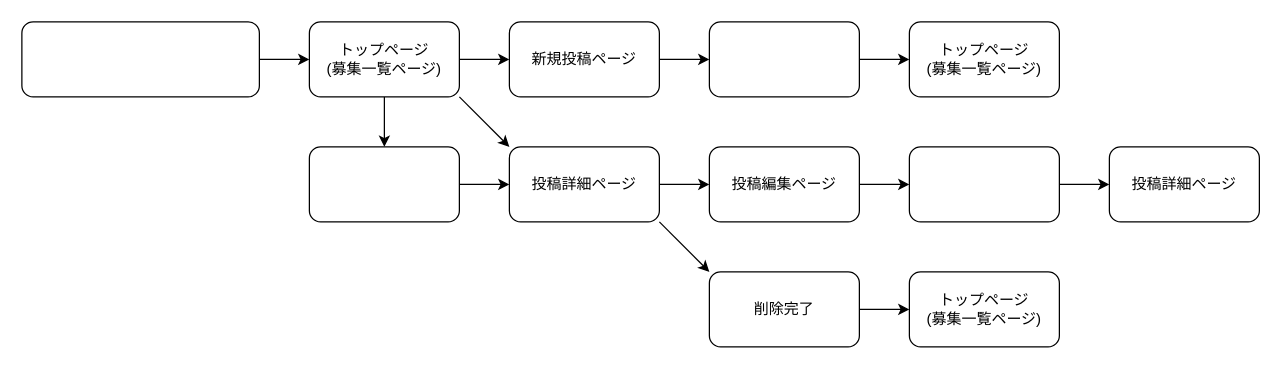
This 1281x369 diagram has some shape labels left out. Each missing label, with the centre of its shape:
"サインイン/ログインページ" goes at pixel 140 59.
"マイページ" goes at pixel 383 184.
"投稿完了" goes at pixel 783 59.
"編集完了" goes at pixel 983 184.
